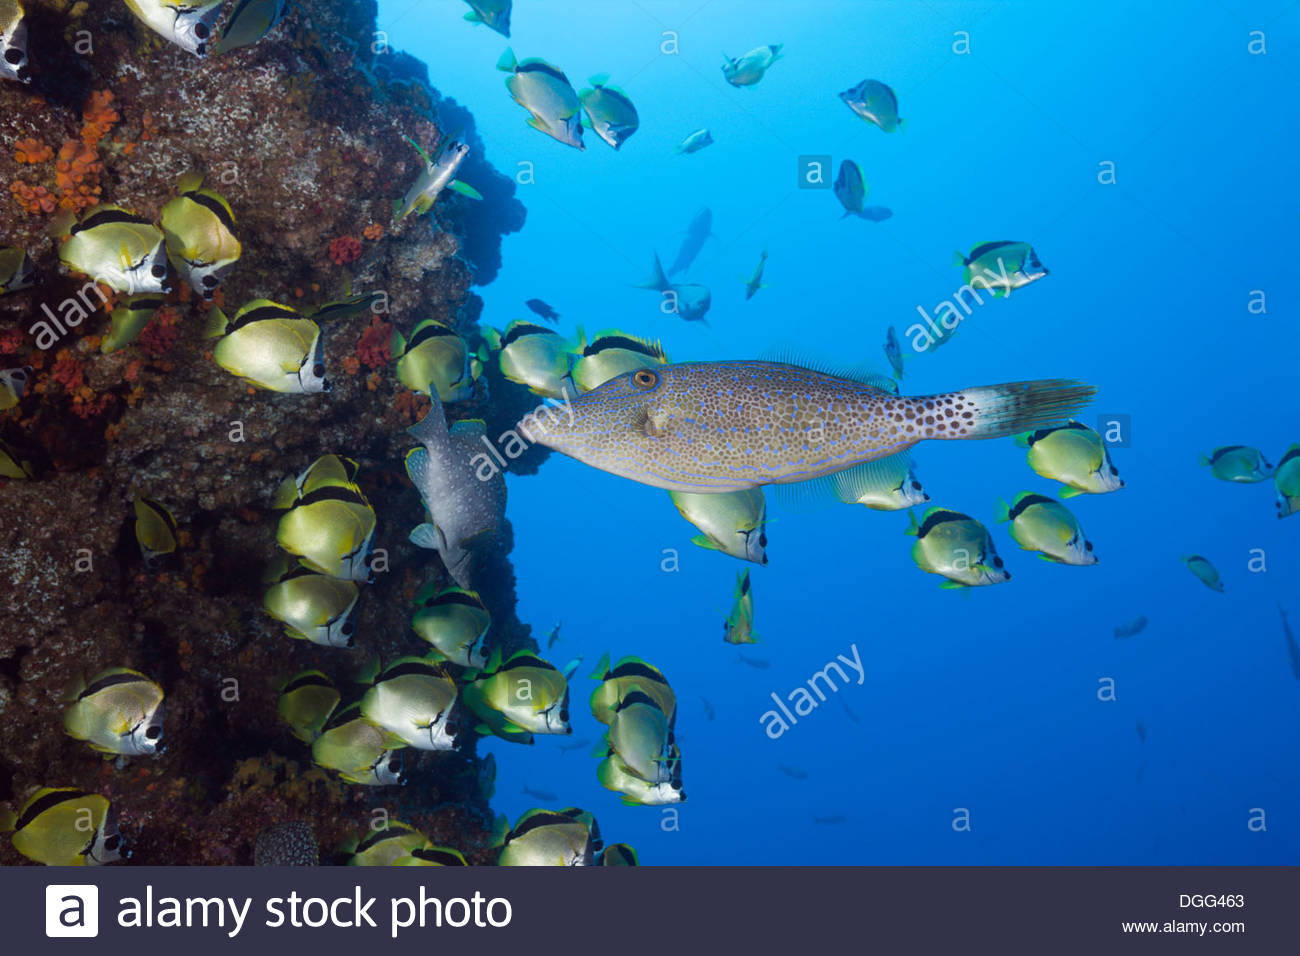Aluterus_scriptus: (504, 355, 1071, 500)
